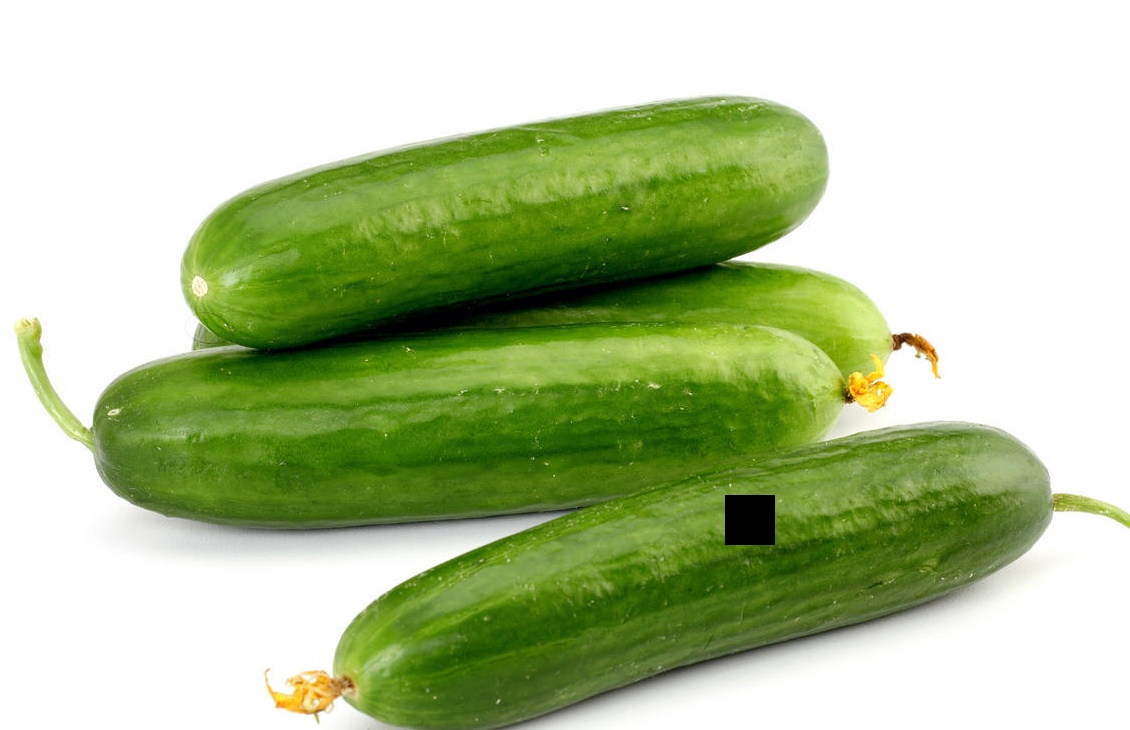cucumber: (333, 444, 1052, 712), (79, 308, 857, 527), (178, 118, 824, 347)
